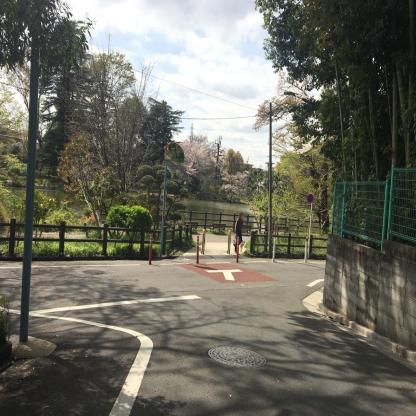Someiyoshino: (167, 134, 220, 183), (216, 168, 254, 202)
